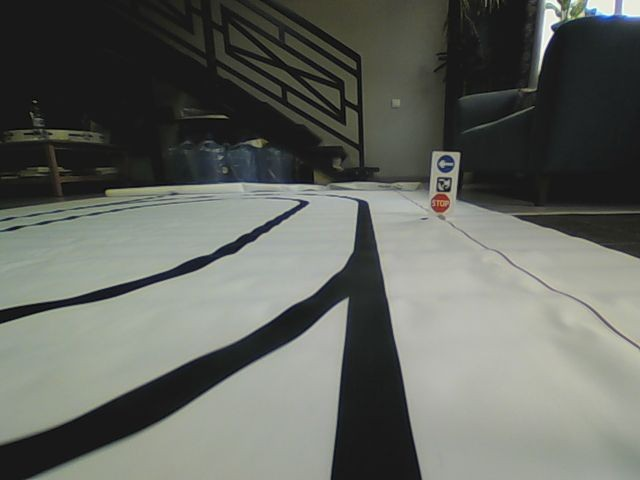Stop: (431, 193, 451, 213)
